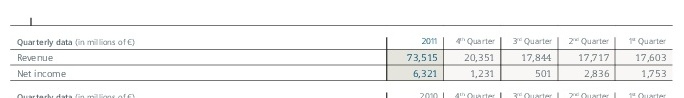table: (0, 0, 684, 98)
